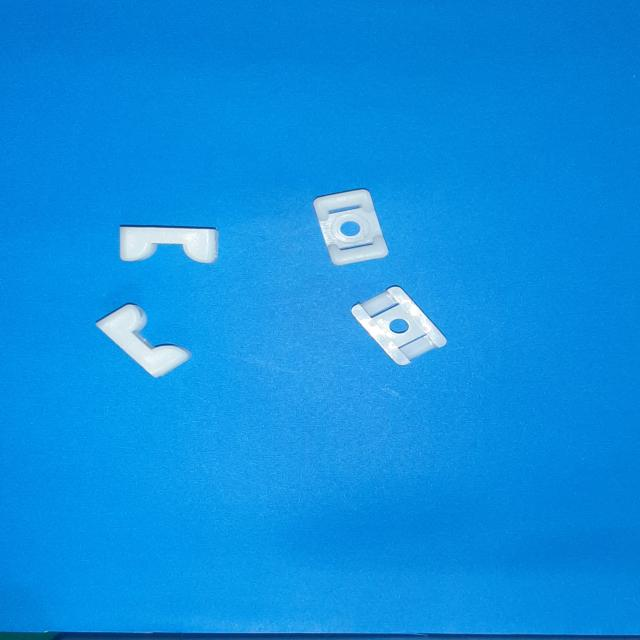false_1: (352, 286, 447, 365)
false_2: (97, 304, 192, 378), (120, 226, 218, 264)
true: (313, 189, 388, 265)
true_center: (340, 221, 360, 236)
